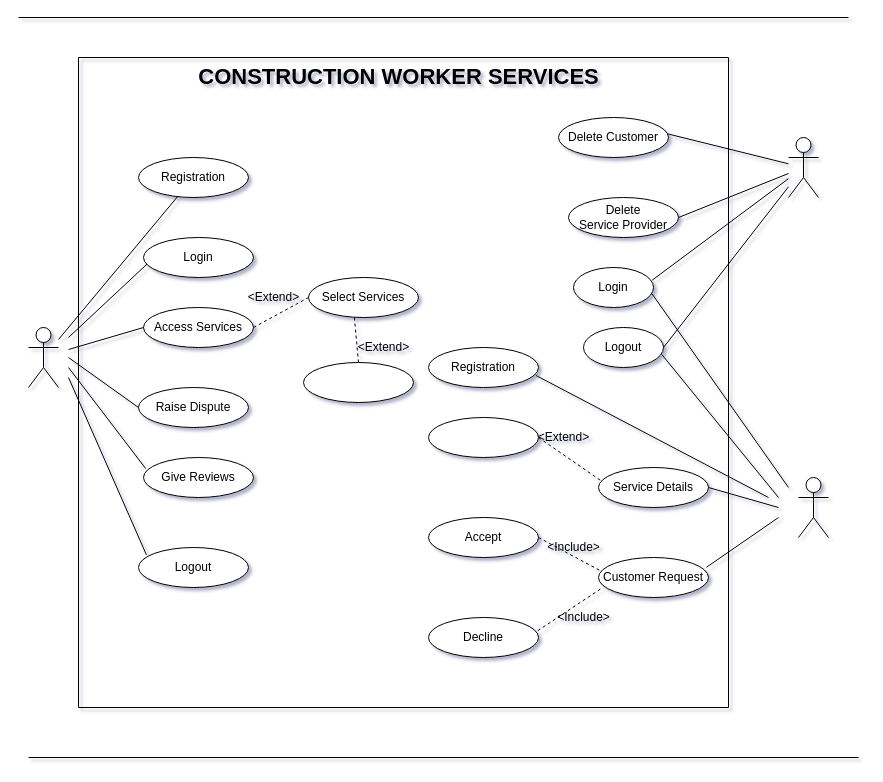
Image size: 883x782. Some labels were removed from this diagram. Each missing label, with the box of its shape:
Admin: (788, 136, 818, 198)
Customer: (28, 326, 58, 388)
Edit: (428, 416, 538, 458)
Schdule Services: (302, 362, 414, 402)
Service Provider: (798, 476, 828, 538)
